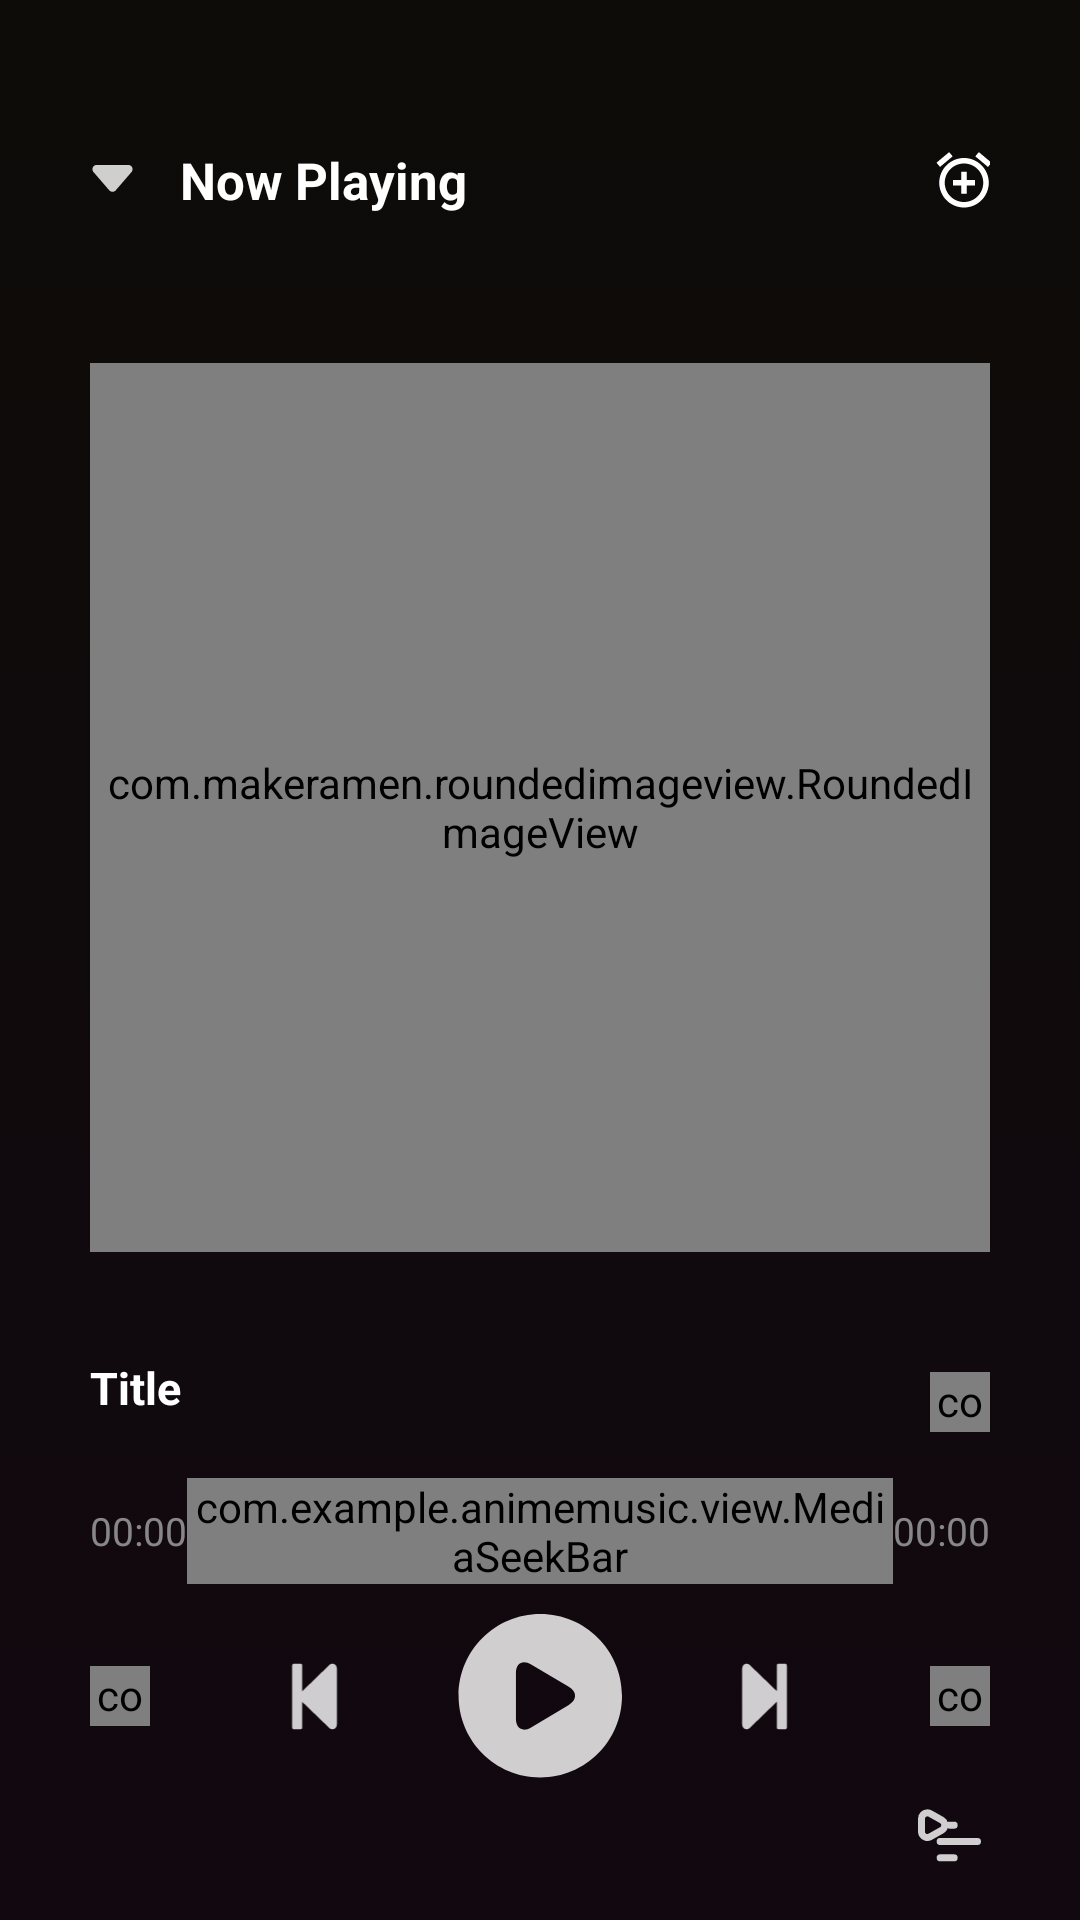

Where to tap for icons on this 1080x1920 app screen, as point (x, y):
minimize: point (112, 178)
queue: point (949, 1835)
step backward: point (314, 1696)
step forward: point (764, 1696)
